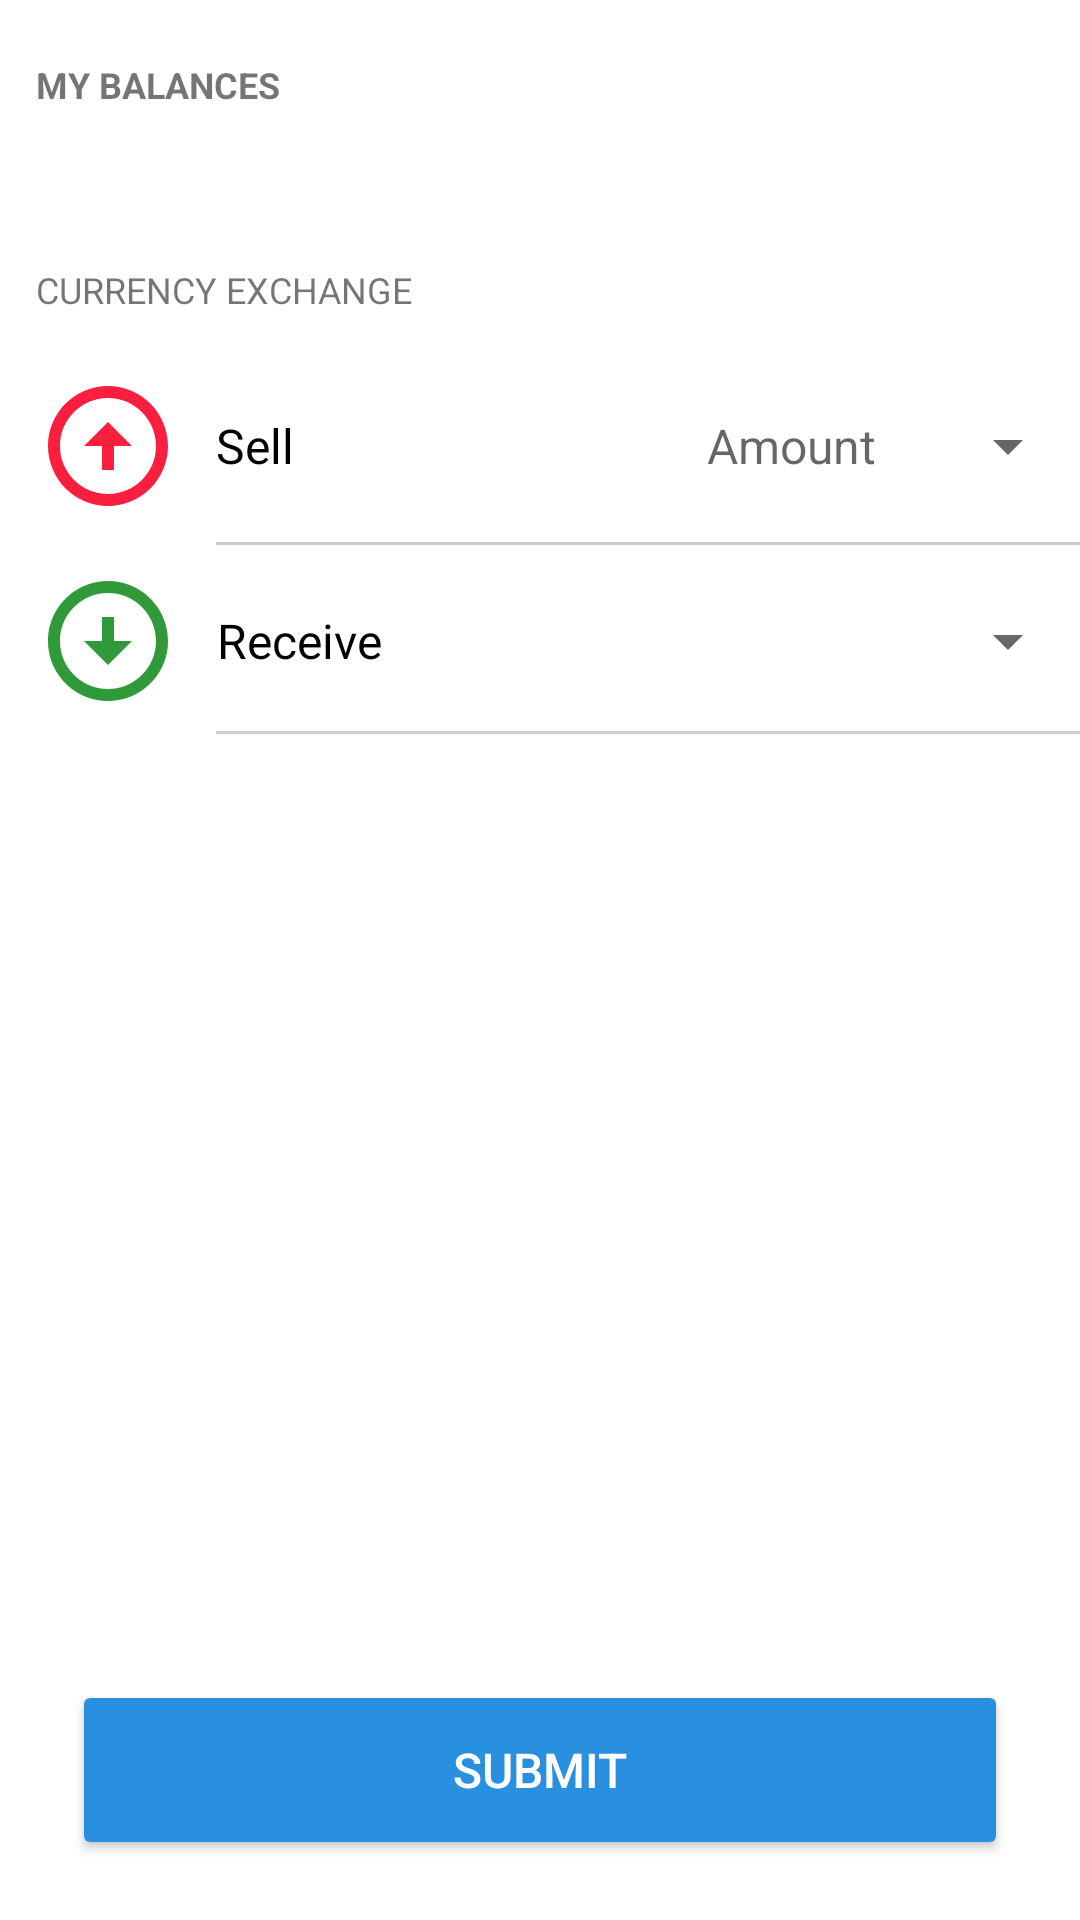

Where to tap for icons on this 1080px x 1920px app screen, as (x,y):
Arrow down: (108,641)
Arrow up: (108,446)
